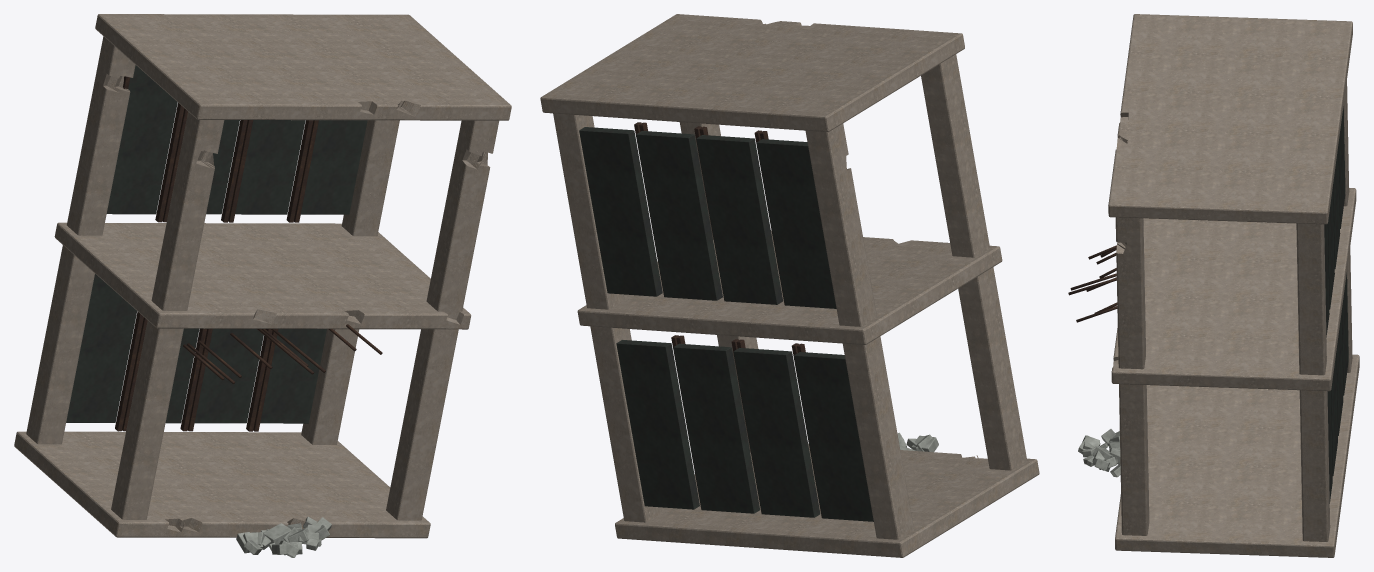
File: f3_v3_leaning_facade.glb
The picture shows the model from 3 angles, left to right: view 1: azimuth 30°, elevation 25°; view 2: azimuth 150°, elevation 25°; view 3: azimuth 270°, elevation 25°; orthographic projection. The views are drawn at different scales.
Visible parts, largest first — view 1: f3_weathered_concrete_surface, f3_deep_crack_surface, f3_oxidized_iron_surface, f3_exposed_aggregate_surface; view 2: f3_weathered_concrete_surface, f3_deep_crack_surface, f3_oxidized_iron_surface; view 3: f3_weathered_concrete_surface, f3_deep_crack_surface, f3_exposed_aggregate_surface, f3_oxidized_iron_surface.
Part boxes in pixels (box(x1,y1,x2,y2)): f3_weathered_concrete_surface: box(14, 14, 511, 538); f3_deep_crack_surface: box(66, 65, 367, 423); f3_oxidized_iron_surface: box(115, 76, 382, 431); f3_exposed_aggregate_surface: box(236, 516, 331, 557); f3_weathered_concrete_surface: box(540, 14, 1039, 557); f3_deep_crack_surface: box(579, 127, 873, 521); f3_oxidized_iron_surface: box(634, 122, 828, 518); f3_weathered_concrete_surface: box(1108, 14, 1359, 557); f3_deep_crack_surface: box(1324, 106, 1348, 503); f3_exposed_aggregate_surface: box(1078, 429, 1120, 477); f3_oxidized_iron_surface: box(1068, 245, 1117, 322).
Size of the model in its own units: 6.46 by 7.49 by 4.5.
Materials: 4 (4 with a texture image).
